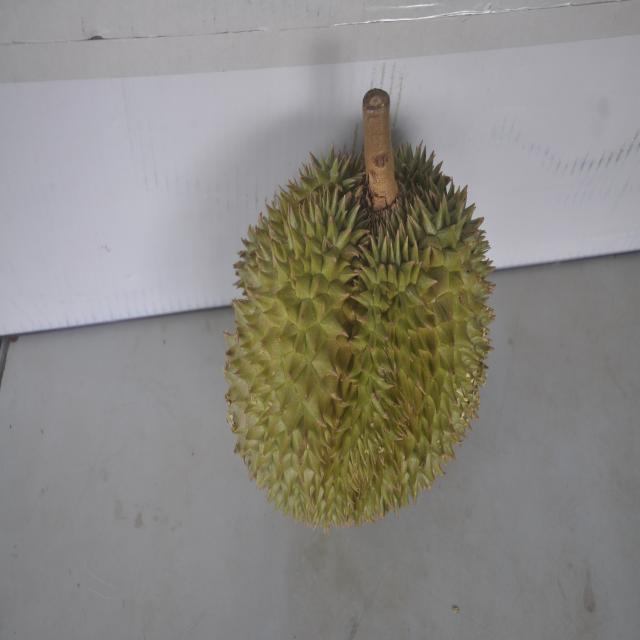mature: (229, 113, 484, 531)
